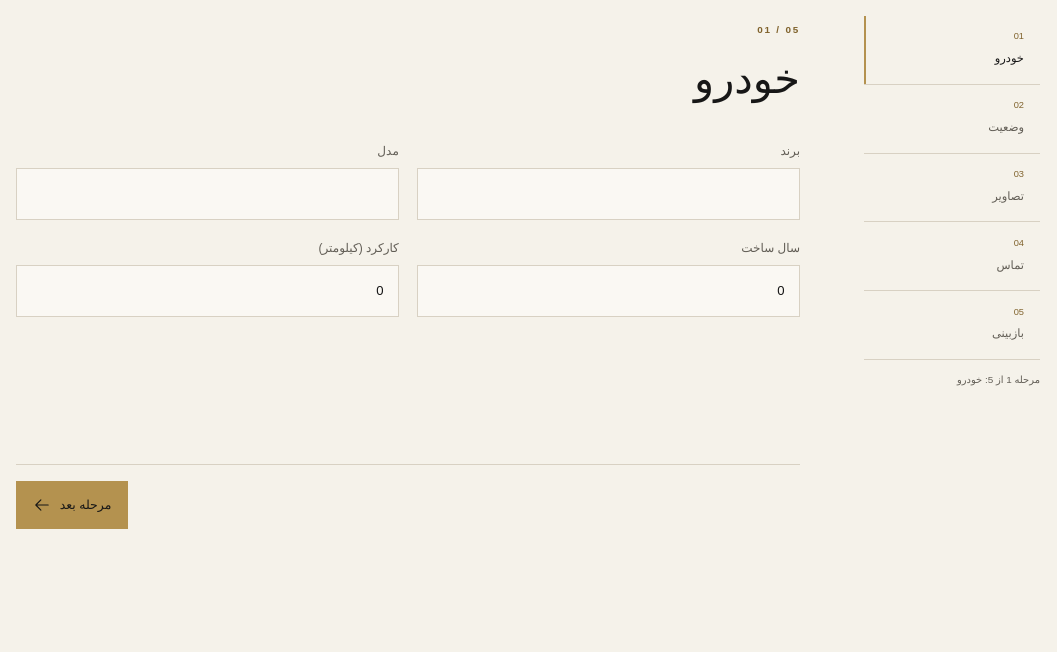
SellCarForm › associates first-step validation errors and stays on the invalid step
The image size is (1057, 652).
Click the button "مرحله بعد": (72, 505) x1=16 y1=481 x2=128 y2=529
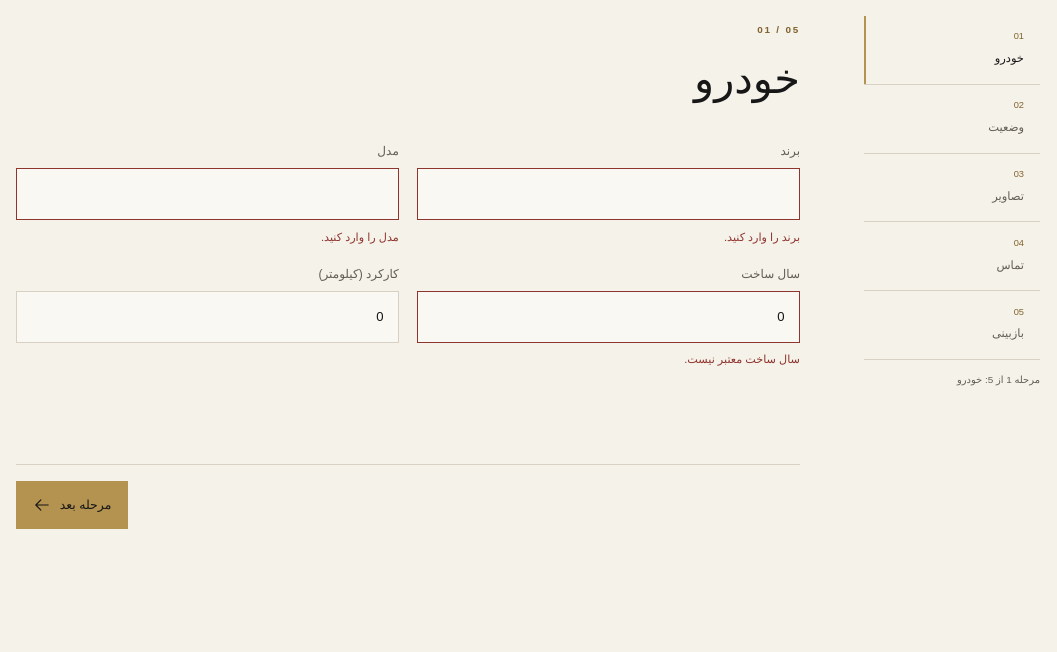
expect the text "مرحله 1 از 5: خودرو" is shown: met, box x1=957 y1=374 x2=1040 y2=385
expect the text "برند را وارد کنید." is shown: met, box x1=724 y1=231 x2=800 y2=243
In the field labelled "برند": (609, 194) x1=417 y1=168 x2=800 y2=220, type "Demo"
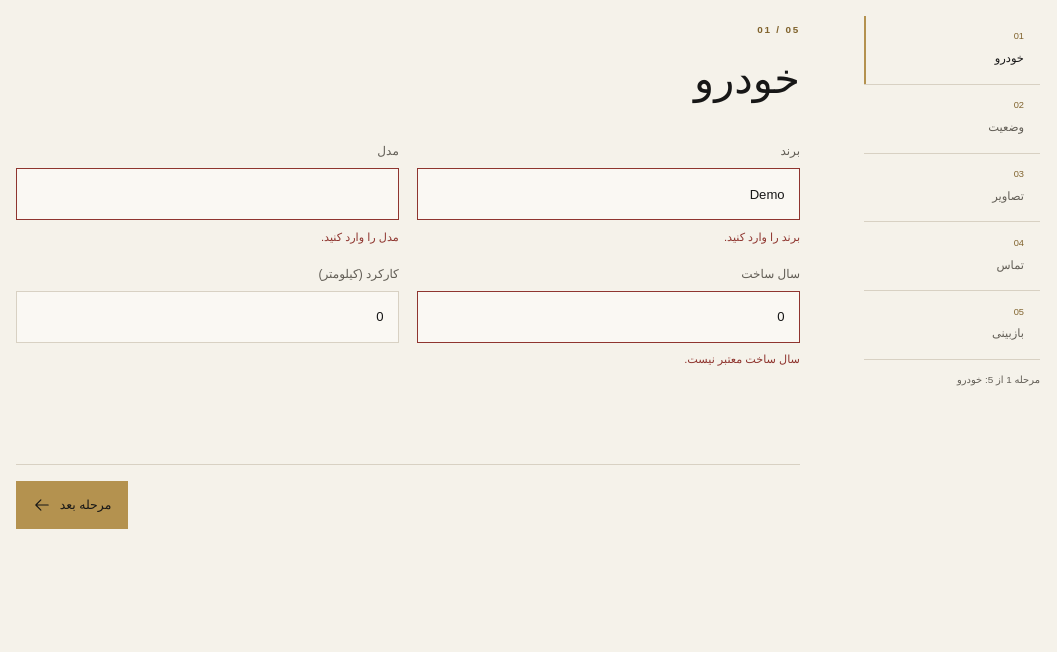
In the field labelled "مدل": (207, 194) x1=16 y1=168 x2=399 y2=220, type "One"
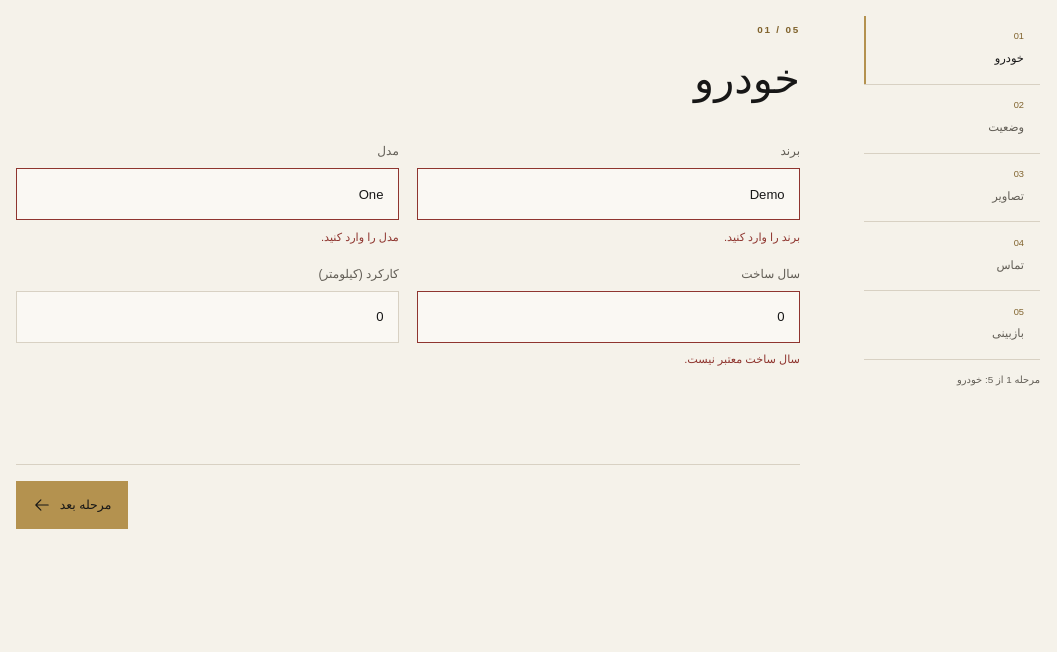
Replace the text in the number field labelled "سال ساخت" with "2025": (609, 317) x1=417 y1=291 x2=800 y2=343
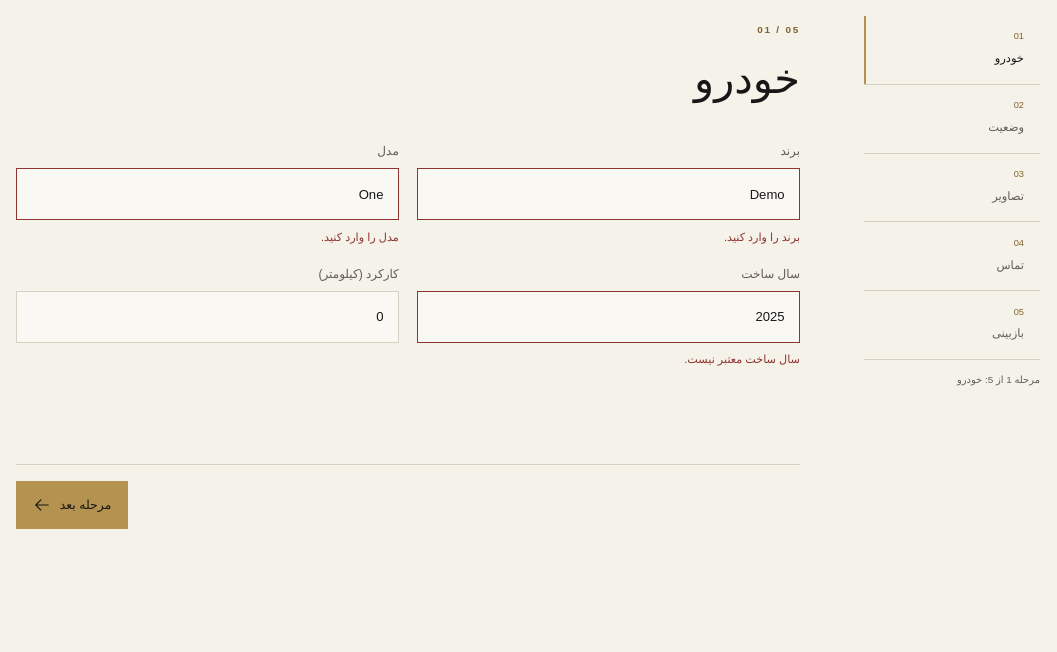
Replace the text in the number field labelled "کارکرد (کیلومتر)" with "100": (207, 317) x1=16 y1=291 x2=399 y2=343
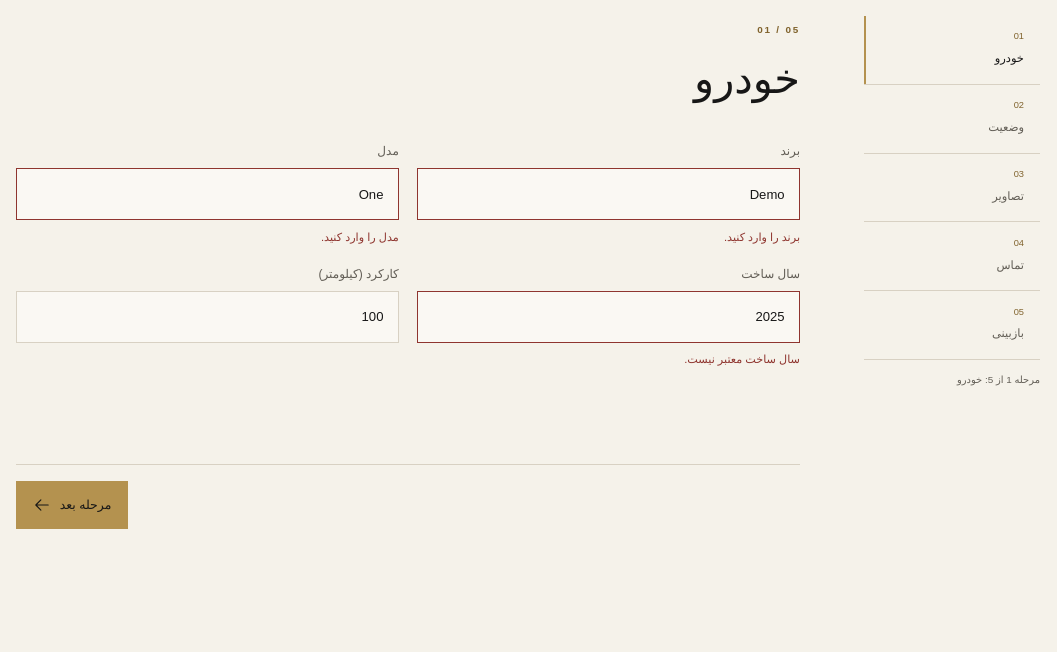
Click the button "مرحله بعد": (72, 505) x1=16 y1=481 x2=128 y2=529
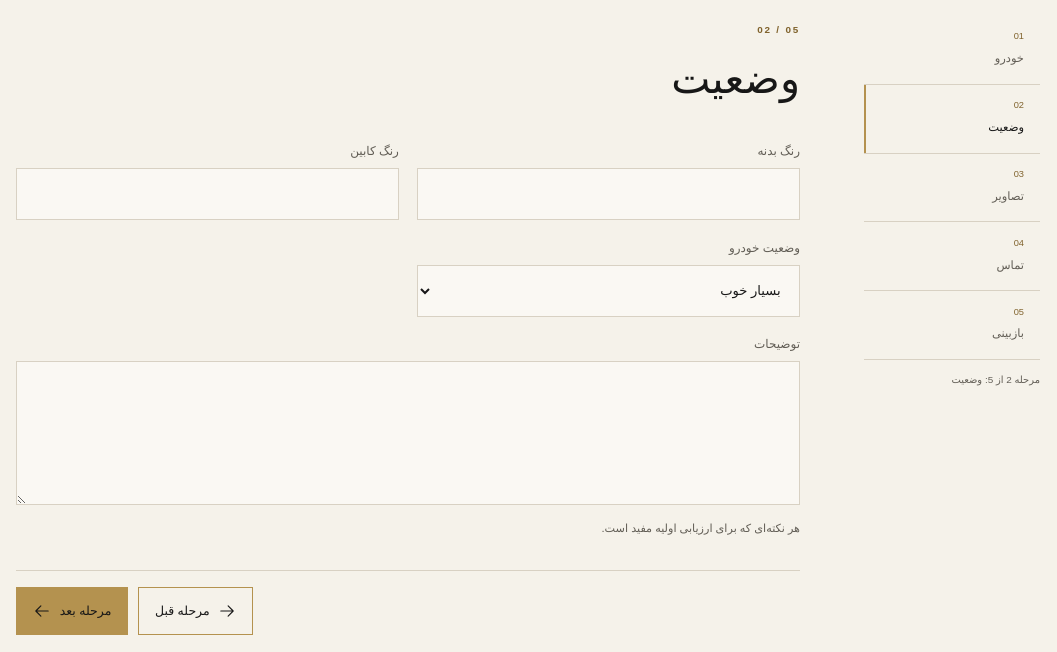
expect the field labelled "رنگ بدنه" is shown: met, box x1=417 y1=168 x2=800 y2=220
expect the text "مرحله 2 از 5: وضعیت" is shown: met, box x1=952 y1=374 x2=1040 y2=385
